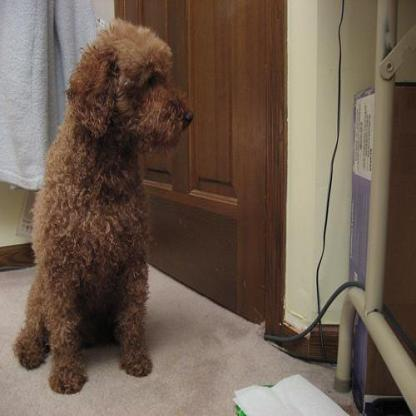miniature_poodle: (10, 16, 194, 396)
